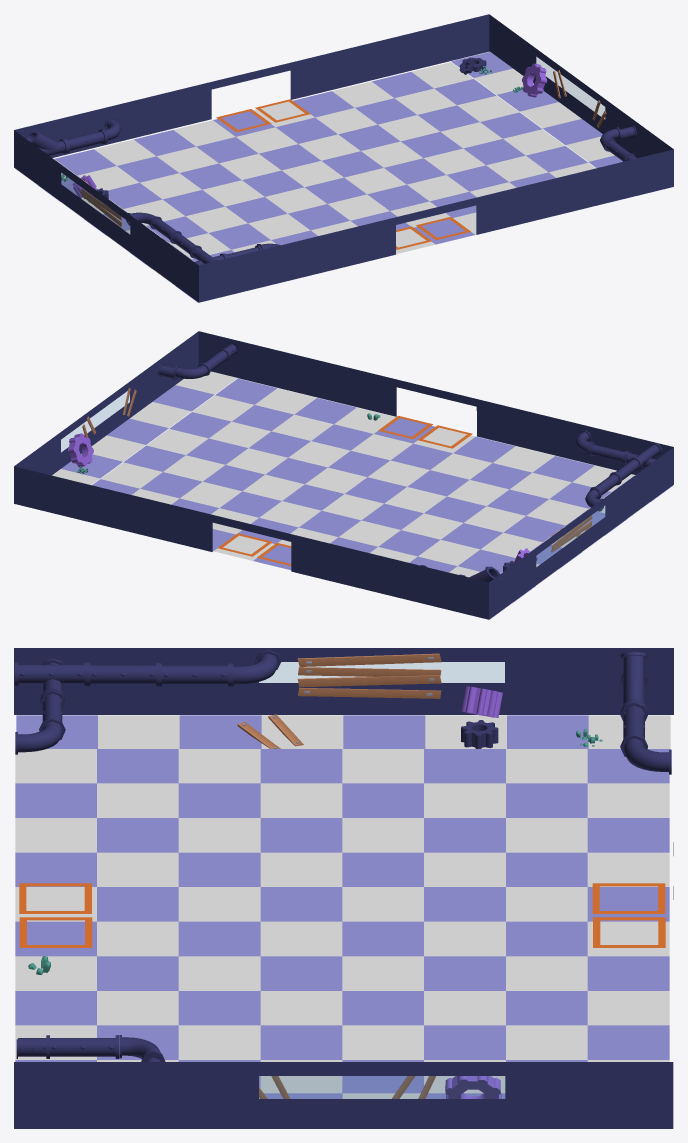
Rendered from RolesLevel.glb.
The picture shows the model from 3 angles, top to bottom: view 1: azimuth 30°, elevation 25°; view 2: azimuth 150°, elevation 25°; view 3: azimuth 270°, elevation 25°; orthographic projection. The views are drawn at different scales.
Parts seen in each view (by area): view 1: Room.003, Plane2.022, Plane.010, Plane2.001, Plane2.027, Plane.009, Plane.029, Plane.038, Plane2.005, Plane2.017, Plane2.020, Plane2.023 (+63 smaller); view 2: Room.003, Plane2.007, Plane.022, Plane2.005, Plane2.019, Plane2.025, Plane2.030, Plane2.034, Plane2.038, Plane.018, Plane.025, Plane.026 (+61 smaller); view 3: Room.003, barricade-window-b.001, Plane.021, Plane2.021, Plane2.010, Plane2.027, Plane.003, Plane.022, Plane, Plane2.006, Plane2.015, Plane2.018 (+90 smaller).
Part boxes in pixels (bbox=[...]): Room.003: bbox=[14, 14, 673, 302]; Plane2.022: bbox=[328, 194, 389, 220]; Plane.010: bbox=[418, 105, 479, 131]; Plane2.001: bbox=[173, 120, 235, 146]; Plane2.027: bbox=[299, 134, 360, 160]; Plane.009: bbox=[117, 156, 178, 182]; Plane.029: bbox=[447, 165, 508, 191]; Plane.038: bbox=[209, 223, 270, 249]; Plane2.005: bbox=[202, 180, 264, 206]; Plane2.017: bbox=[503, 129, 564, 155]; Plane2.020: bbox=[407, 175, 468, 201]; Plane2.023: bbox=[265, 187, 326, 213]; Room.003: bbox=[14, 331, 673, 619]; Plane2.007: bbox=[493, 446, 554, 472]; Plane.022: bbox=[282, 484, 343, 510]; Plane2.005: bbox=[401, 513, 462, 539]; Plane2.019: bbox=[226, 448, 287, 474]; Plane2.025: bbox=[339, 520, 400, 546]; Plane2.030: bbox=[180, 481, 241, 507]; Plane2.034: bbox=[526, 499, 588, 525]; Plane2.038: bbox=[464, 506, 525, 532]; Plane.018: bbox=[407, 470, 469, 496]; Plane.025: bbox=[186, 438, 247, 464]; Plane.026: bbox=[124, 445, 185, 471]; Room.003: bbox=[14, 648, 673, 1128]; barricade-window-b.001: bbox=[297, 653, 441, 698]; Plane.021: bbox=[178, 921, 260, 956]; Plane2.021: bbox=[260, 921, 342, 956]; Plane2.010: bbox=[97, 921, 178, 956]; Plane2.027: bbox=[424, 921, 505, 956]; Plane.003: bbox=[506, 921, 587, 956]; Plane.022: bbox=[342, 921, 423, 956]; Plane: bbox=[587, 1025, 669, 1059]; Plane2.006: bbox=[178, 818, 260, 852]; Plane2.015: bbox=[587, 783, 669, 817]; Plane2.018: bbox=[178, 1025, 260, 1059].
Bounding box in the file's own units: 29.99 × 2.86 × 20.17.
Materials: 10 (2 with a texture image).
